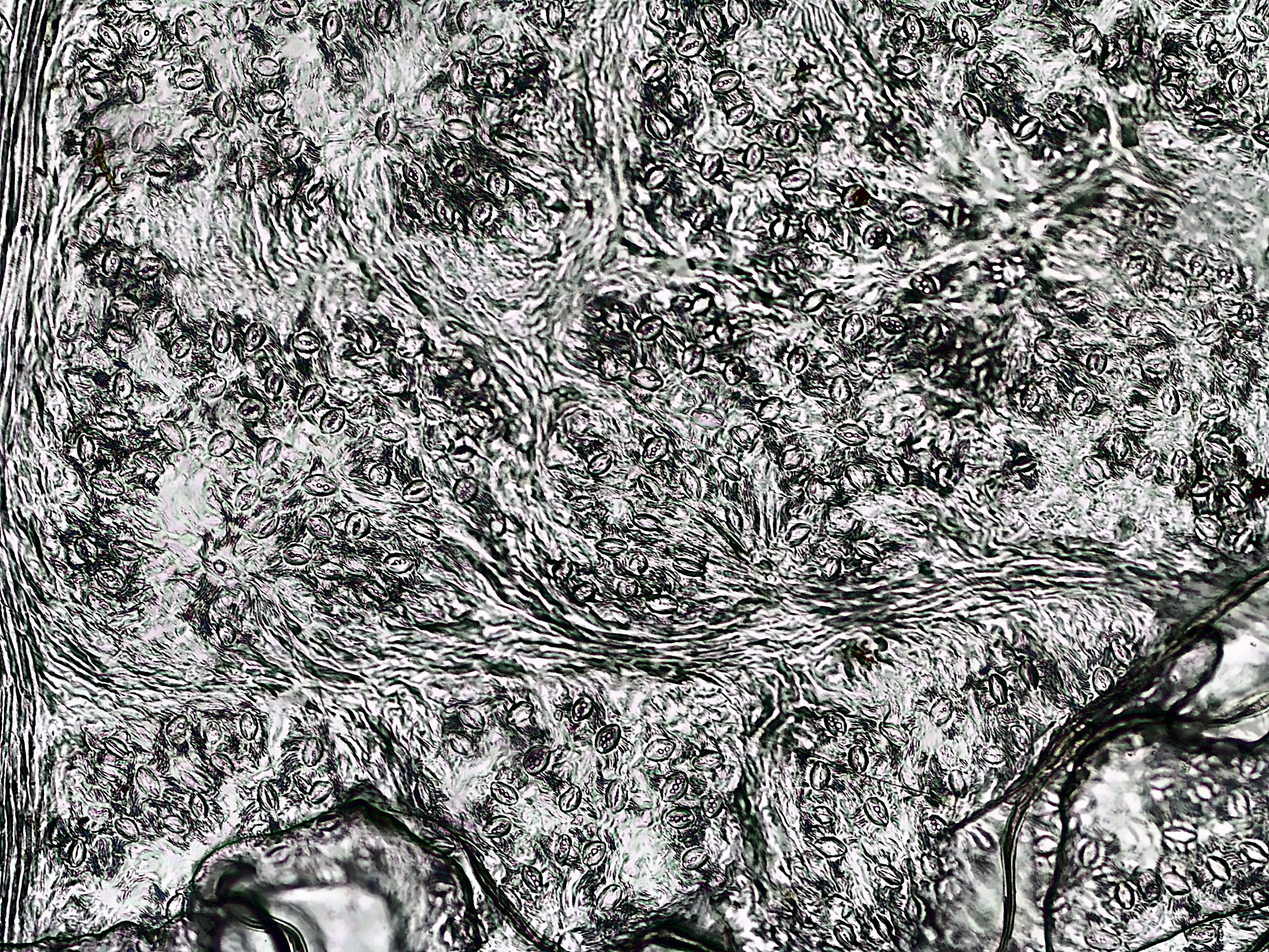stomata: (488, 126, 532, 155), (875, 720, 915, 751), (1058, 96, 1091, 133), (975, 58, 1016, 87), (155, 418, 188, 454), (1236, 13, 1269, 46), (953, 16, 985, 49), (656, 772, 688, 804), (947, 200, 977, 234), (521, 743, 552, 774), (838, 119, 870, 149), (592, 722, 622, 754), (70, 536, 103, 565), (91, 479, 125, 507), (962, 90, 990, 124), (639, 434, 673, 462), (305, 472, 340, 499), (233, 483, 263, 514), (302, 513, 334, 542), (396, 333, 431, 359), (919, 320, 949, 350), (151, 303, 182, 332), (1084, 346, 1113, 377), (1157, 79, 1190, 106), (134, 765, 161, 798), (1085, 929, 1123, 952), (97, 23, 127, 52), (297, 383, 326, 413), (402, 477, 432, 506), (636, 473, 665, 503), (860, 797, 890, 826), (456, 705, 487, 733), (708, 71, 744, 95), (860, 223, 892, 250), (833, 423, 869, 447), (93, 567, 125, 594), (805, 211, 831, 244), (810, 836, 849, 858), (405, 516, 442, 539), (131, 120, 156, 154), (857, 354, 891, 379), (1073, 25, 1102, 54), (1078, 455, 1107, 484), (690, 407, 725, 431), (489, 780, 520, 807), (163, 715, 194, 742), (1195, 320, 1227, 346), (1193, 515, 1225, 541), (1160, 50, 1193, 75), (644, 737, 677, 762), (605, 779, 629, 813), (242, 324, 271, 352), (840, 316, 869, 344), (1018, 115, 1047, 143), (827, 374, 854, 404), (256, 90, 287, 116), (63, 375, 98, 398), (210, 319, 233, 354), (448, 440, 480, 465), (519, 862, 544, 894), (630, 513, 668, 534), (771, 253, 804, 277), (1195, 102, 1223, 130), (597, 883, 624, 912), (214, 92, 237, 126), (375, 111, 398, 145), (673, 557, 707, 580), (853, 538, 887, 561), (275, 133, 305, 159), (398, 200, 428, 226), (634, 316, 664, 342), (136, 253, 161, 284), (779, 168, 810, 193), (1091, 666, 1116, 697), (236, 710, 261, 741), (299, 735, 324, 766), (130, 452, 165, 474), (343, 513, 375, 537), (453, 476, 482, 502), (933, 461, 962, 487), (703, 5, 728, 35), (1032, 337, 1062, 362), (280, 544, 310, 569), (506, 699, 536, 724), (375, 421, 409, 443), (1143, 357, 1177, 379), (987, 672, 1009, 706), (110, 540, 144, 562), (382, 552, 413, 576), (680, 467, 703, 499), (256, 782, 279, 814), (445, 157, 473, 183), (209, 429, 235, 457), (801, 287, 829, 313), (568, 695, 596, 721), (581, 838, 607, 866), (699, 791, 725, 819), (144, 158, 173, 183), (257, 437, 282, 466), (785, 523, 814, 548), (929, 697, 954, 726), (306, 779, 335, 804), (100, 734, 129, 759), (482, 814, 512, 838), (584, 453, 618, 474), (633, 367, 664, 390), (1017, 659, 1040, 690), (187, 792, 210, 823), (753, 399, 790, 418), (436, 201, 462, 228), (642, 164, 669, 190), (291, 331, 326, 351), (641, 59, 669, 84), (898, 202, 926, 227), (910, 272, 938, 297), (1009, 724, 1034, 752), (921, 815, 949, 840), (1205, 856, 1233, 881), (682, 845, 710, 870), (806, 476, 831, 504), (677, 32, 706, 56), (558, 783, 582, 812), (1125, 408, 1155, 431), (1238, 840, 1268, 863), (1113, 880, 1136, 910), (873, 864, 903, 887), (468, 407, 498, 430), (175, 15, 197, 46), (334, 59, 361, 84), (680, 347, 705, 374), (1077, 840, 1102, 867), (169, 335, 193, 363), (720, 357, 744, 385), (1016, 381, 1040, 409), (1201, 401, 1233, 422), (693, 750, 725, 771), (596, 351, 620, 379), (520, 51, 549, 74), (215, 617, 238, 646), (445, 119, 475, 141), (809, 761, 831, 791), (1161, 873, 1191, 895), (404, 159, 425, 190), (782, 445, 807, 471), (1224, 483, 1249, 509), (114, 817, 140, 842), (843, 182, 867, 209), (644, 595, 680, 613), (323, 10, 343, 42), (196, 377, 228, 397), (1229, 71, 1251, 100), (595, 536, 628, 555), (777, 122, 802, 147), (732, 424, 757, 449), (832, 922, 857, 947), (110, 375, 136, 399), (720, 453, 744, 479), (846, 465, 872, 489), (176, 67, 203, 90), (82, 78, 109, 101), (191, 136, 218, 159), (1011, 450, 1038, 473), (136, 20, 158, 48), (701, 152, 723, 180), (94, 415, 130, 432), (229, 4, 250, 33), (253, 57, 282, 78), (237, 399, 266, 420), (648, 112, 669, 141), (668, 87, 689, 116), (787, 346, 808, 375), (366, 463, 395, 484), (1202, 437, 1231, 458), (1161, 827, 1199, 843), (490, 65, 510, 95), (768, 214, 792, 239), (802, 102, 827, 126), (664, 809, 694, 829), (210, 752, 235, 776), (421, 398, 451, 418), (822, 714, 848, 737), (1219, 253, 1236, 288), (1199, 17, 1217, 50), (77, 431, 96, 462), (888, 55, 919, 74), (1159, 386, 1180, 414), (848, 746, 869, 774), (67, 838, 87, 867), (110, 296, 144, 313), (1069, 391, 1093, 415), (322, 410, 344, 436), (1128, 252, 1150, 278), (255, 515, 281, 537), (1189, 475, 1215, 497), (490, 167, 509, 197), (359, 324, 378, 354), (728, 104, 755, 125), (450, 60, 467, 93), (239, 154, 255, 189), (265, 367, 283, 398), (1186, 924, 1217, 942), (312, 562, 343, 580), (615, 576, 639, 599), (303, 177, 325, 202), (457, 3, 475, 33), (881, 314, 908, 334), (1190, 249, 1209, 277), (1115, 433, 1131, 466), (948, 770, 968, 796), (267, 176, 293, 196), (810, 806, 837, 825), (128, 71, 145, 101), (480, 34, 503, 56), (573, 582, 596, 604), (906, 15, 923, 44), (473, 200, 491, 227), (379, 378, 409, 394), (746, 144, 764, 170), (549, 1, 566, 28), (981, 746, 1006, 764), (377, 5, 393, 32), (102, 252, 121, 274), (891, 462, 909, 485), (111, 325, 131, 344), (725, 509, 742, 531), (825, 560, 840, 578), (707, 34, 711, 35)
